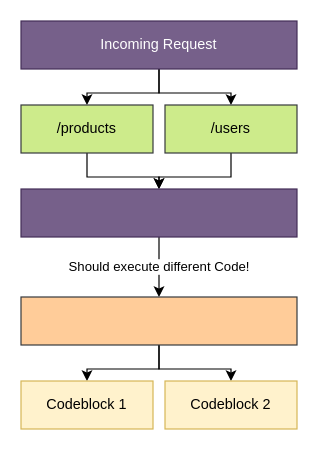
This 318x450 diagram has some shape labels left out. The shapes that lost their labels are listed below. From the top down, each one's box as (x1, y1, x2, y2) in pixels, then its label:
(20, 188, 297, 237): Node.js Server at your-address.com
(20, 296, 297, 345): Express.js Router
